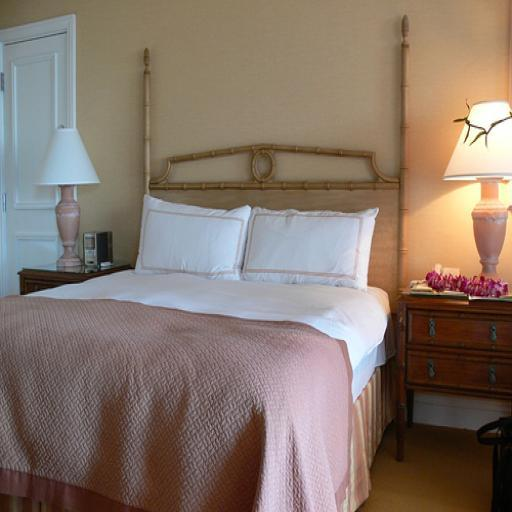bed: (12, 151, 410, 512)
